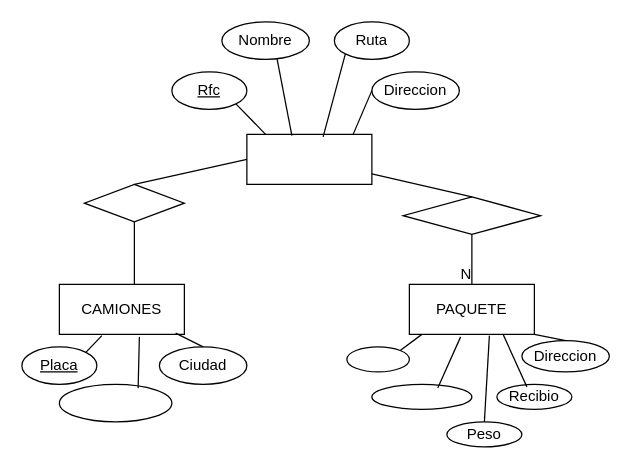
The diagram is 631 pixels wide and 469 high, and some of its shapes have lost their labels. Here are the shapes that lost their labels. From the top down, the box of each, then its label:
(246, 133, 372, 184): CONDUCTOR
(83, 183, 184, 222): Conduce
(402, 196, 541, 234): Entrega
(346, 346, 409, 372): Codigo
(58, 383, 172, 422): Carga_Maxima
(371, 383, 472, 409): Descripcion
